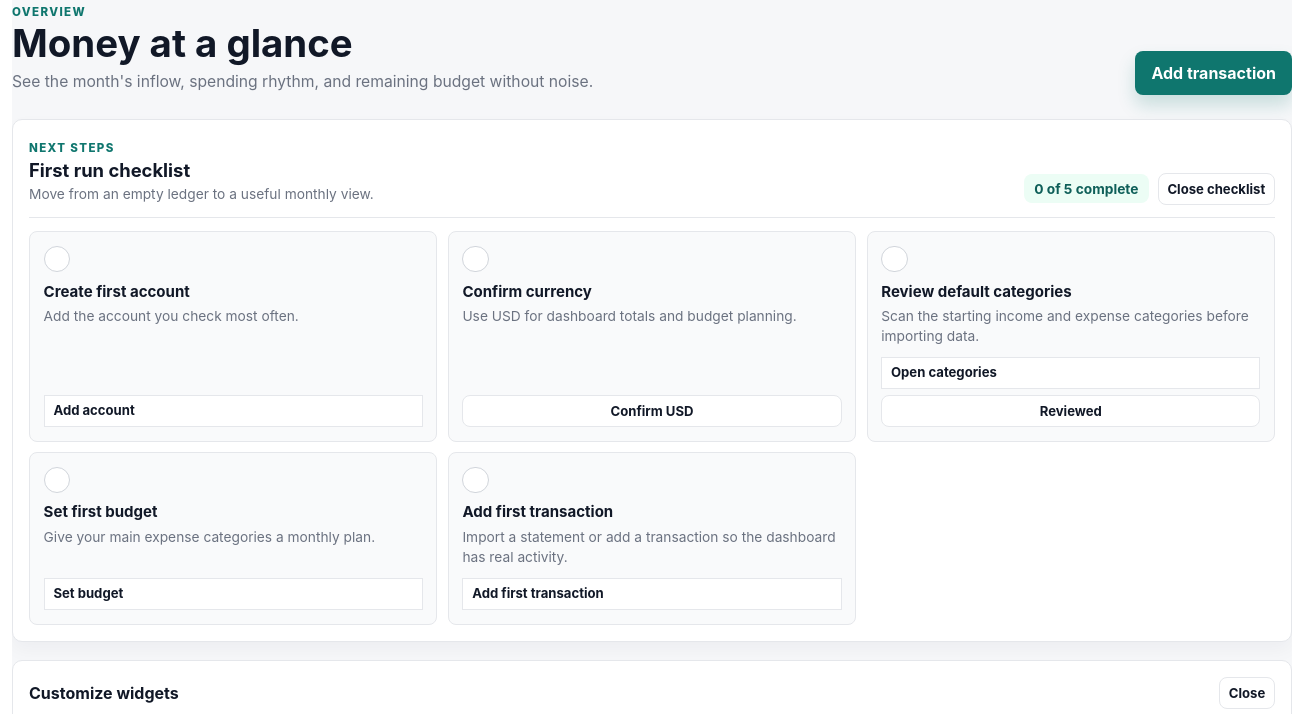
Scenario: DashboardPage › lets users close the first-run checklist without completing steps
The width and height of the screenshot is (1304, 714).
Click the button "Close checklist" at (1216, 189), box [1158,173,1275,205]
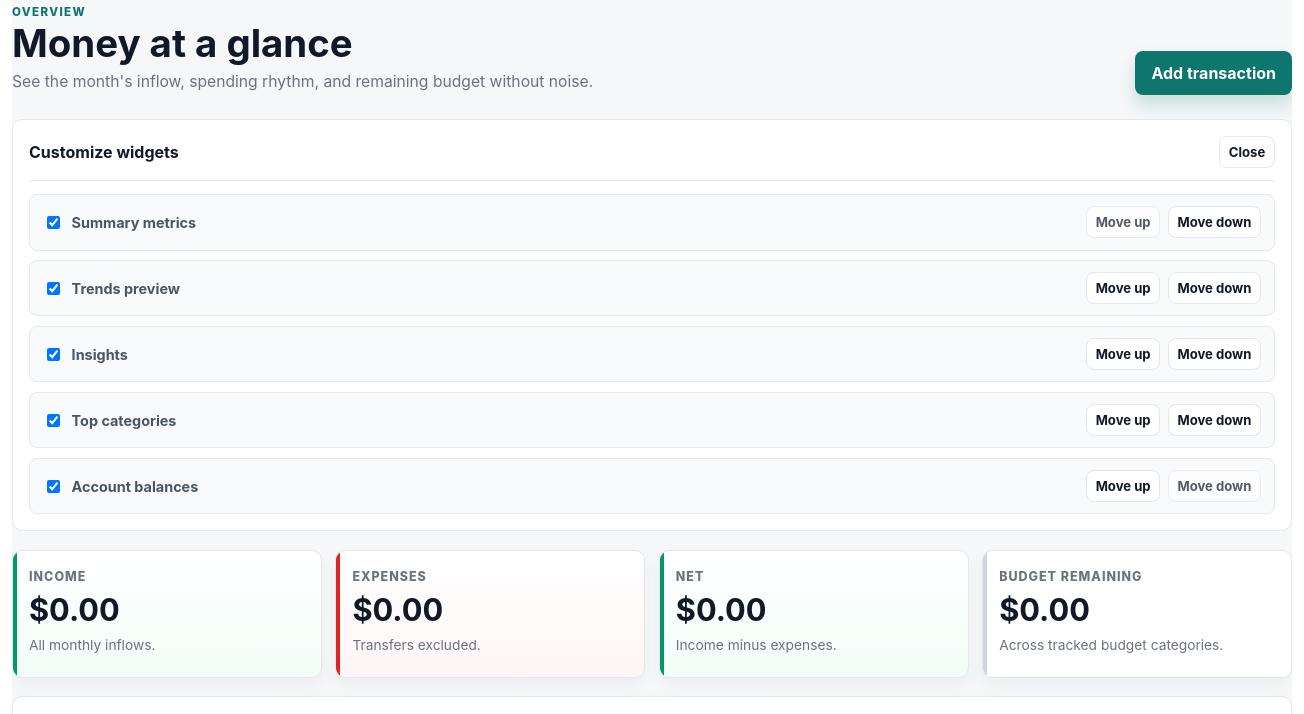
Check: the heading labelled "First run checklist" is gone
